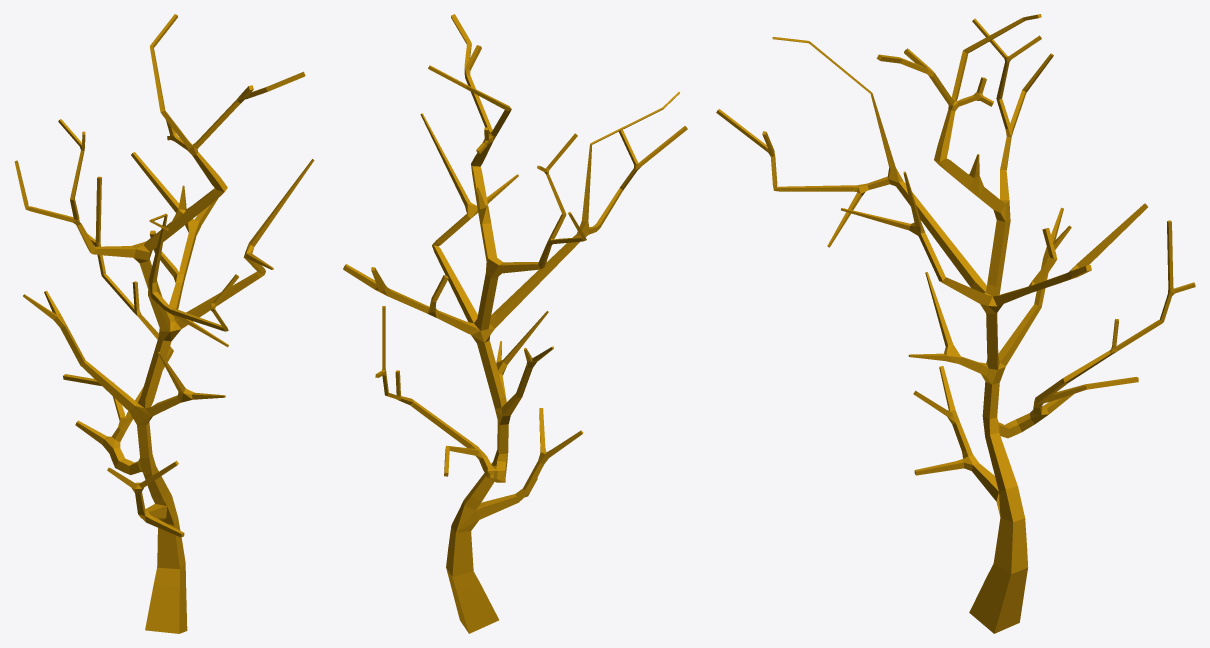
Rendered from roots_low.fbx.
The picture shows the model from 3 angles, left to right: view 1: azimuth 30°, elevation 25°; view 2: azimuth 150°, elevation 25°; view 3: azimuth 270°, elevation 25°; orthographic projection. The views are drawn at different scales.
Visible parts, largest first — view 1: Cube; view 2: Cube; view 3: Cube.
Boxes of the visible parts, x1,y1,x2,y2 form: Cube: [14, 14, 314, 633]; Cube: [343, 14, 687, 633]; Cube: [716, 14, 1195, 633].
Bounding box in the file's own units: 41.82 × 103 × 71.67.
